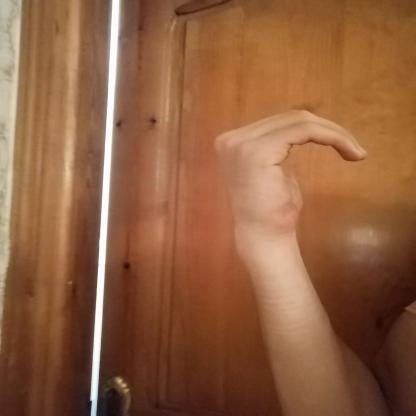HAA: (190, 100, 392, 254)
